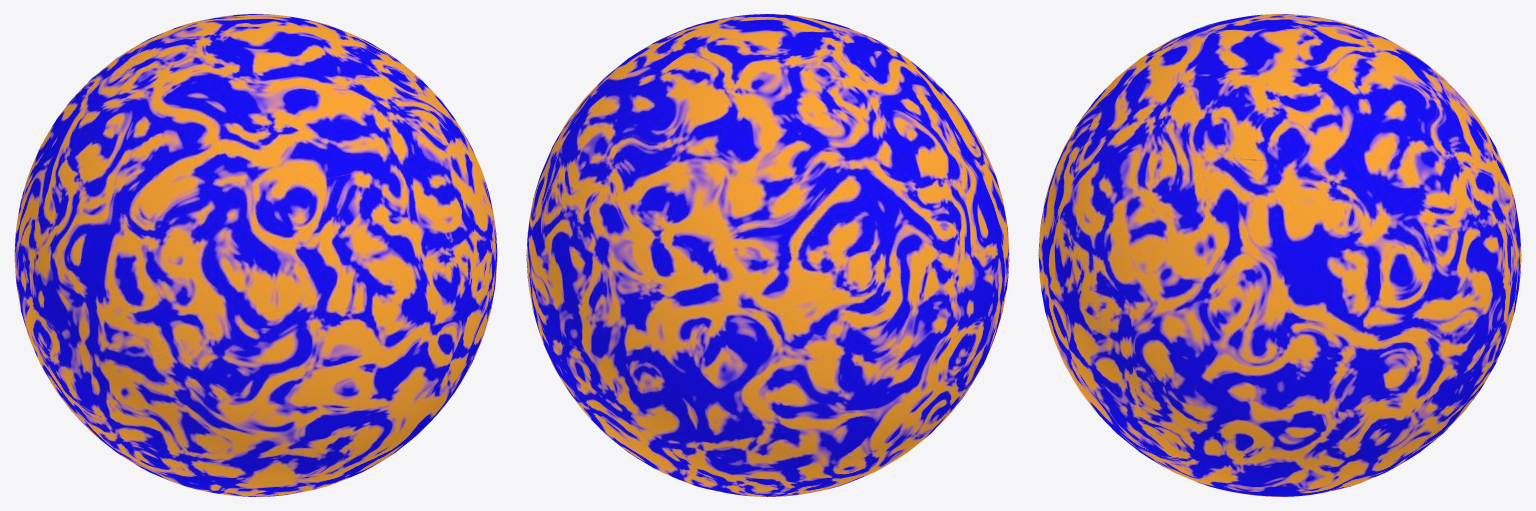
The model's file is core.glb.
The picture shows the model from 3 angles, left to right: view 1: azimuth 30°, elevation 25°; view 2: azimuth 150°, elevation 25°; view 3: azimuth 270°, elevation 25°; orthographic projection.
Visible parts, largest first — view 1: Sphere.001; view 2: Sphere.001; view 3: Sphere.001.
Boxes of the visible parts, x1,y1,x2,y2 form: Sphere.001: [14, 14, 497, 496]; Sphere.001: [526, 14, 1009, 496]; Sphere.001: [1038, 14, 1521, 496].
Size of the model in its own units: 1.35 by 1.35 by 1.35.
1 material, 1 textured.
